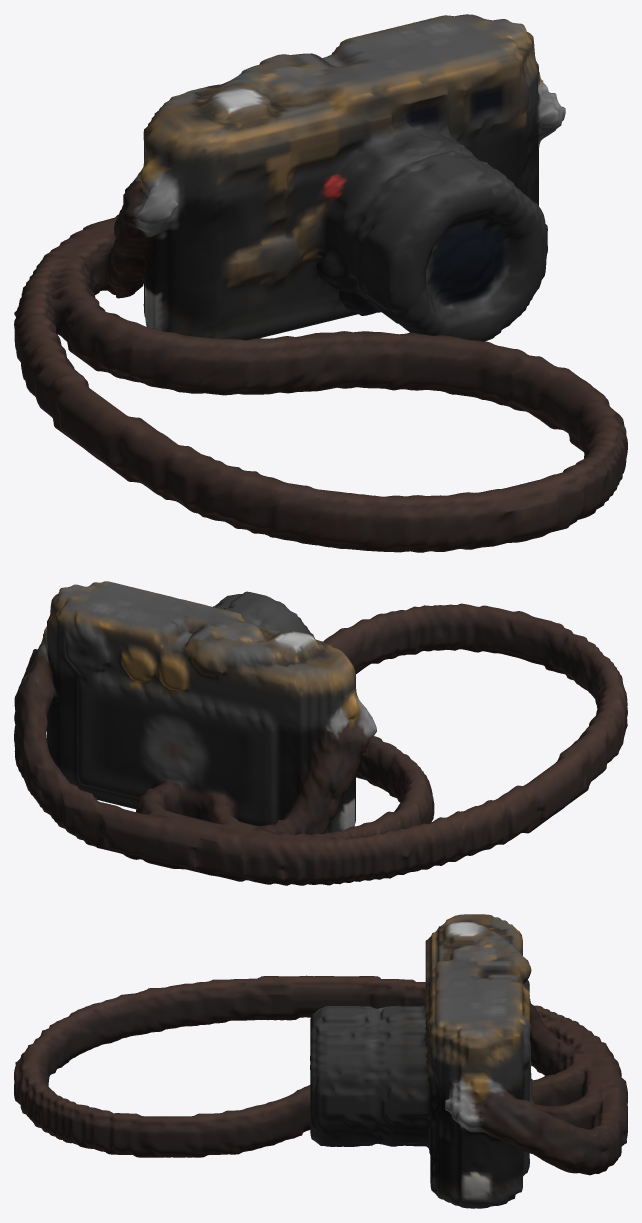
File: vintage-camera.glb
3 renders of one model, top to bottom at view 1: azimuth 30°, elevation 25°; view 2: azimuth 150°, elevation 25°; view 3: azimuth 270°, elevation 25°, orthographic. The views are drawn at different scales.
Visible parts, largest first — view 1: vintage-camera; view 2: vintage-camera; view 3: vintage-camera.
Part boxes in pixels (bbox=[...]): vintage-camera: bbox=[14, 14, 627, 552]; vintage-camera: bbox=[14, 581, 627, 885]; vintage-camera: bbox=[14, 914, 627, 1208].
Size of the model in its own units: 0.0818 by 0.0315 by 0.1.
